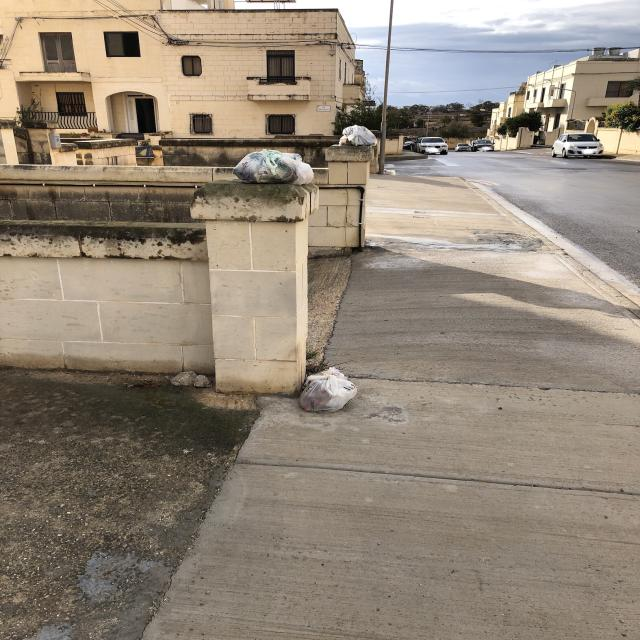Organic Waste -White Bag-: (234, 144, 318, 188), (299, 378, 359, 416), (338, 123, 381, 149), (310, 368, 345, 381)
